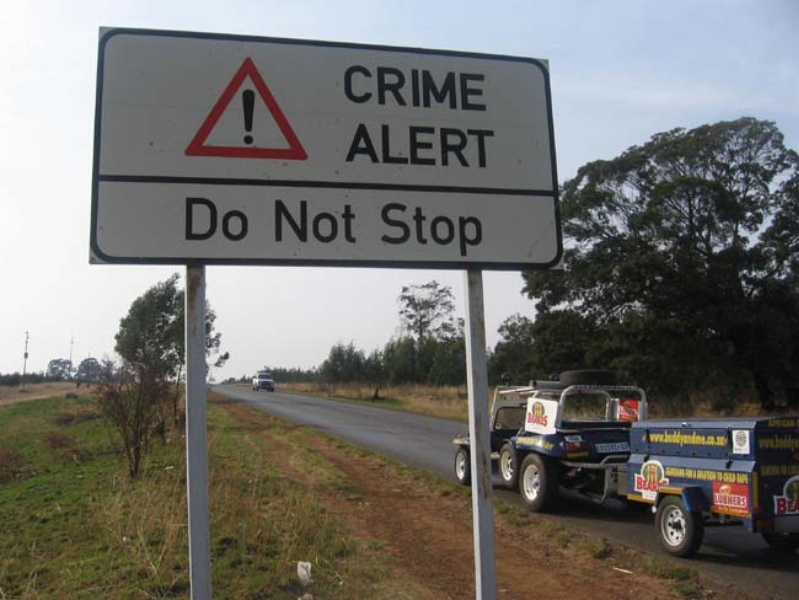text: (241, 84, 256, 148), (385, 200, 400, 259), (401, 200, 416, 259), (417, 200, 432, 259), (433, 200, 448, 259), (449, 200, 464, 259), (465, 200, 480, 259), (481, 122, 497, 169), (353, 63, 368, 112), (369, 63, 384, 112), (385, 63, 400, 112), (401, 63, 416, 112), (417, 63, 432, 112), (433, 63, 448, 112), (449, 63, 464, 112), (465, 63, 480, 112), (193, 196, 208, 243), (209, 196, 224, 243), (225, 196, 240, 243), (369, 122, 384, 169), (385, 122, 400, 169), (401, 122, 416, 169), (417, 122, 432, 169), (433, 122, 448, 169), (449, 122, 464, 169), (465, 122, 480, 169), (289, 198, 304, 244), (305, 198, 320, 244), (321, 198, 336, 244), (337, 198, 352, 244), (275, 198, 288, 244), (356, 122, 368, 169), (343, 63, 352, 112), (481, 63, 490, 112), (241, 196, 250, 243), (673, 463, 688, 487), (689, 463, 704, 487), (705, 463, 720, 487), (721, 463, 736, 487), (185, 196, 192, 243), (257, 84, 262, 148), (641, 428, 656, 449), (657, 428, 672, 449), (673, 428, 688, 449), (689, 428, 704, 449), (705, 428, 720, 449), (737, 463, 750, 487), (769, 432, 784, 452), (641, 476, 656, 495), (785, 495, 798, 516), (529, 409, 544, 427), (661, 463, 672, 487), (755, 432, 768, 452), (785, 432, 798, 452), (721, 491, 736, 507), (380, 200, 384, 259), (481, 200, 485, 259), (774, 495, 784, 516), (737, 491, 750, 507), (769, 417, 784, 430), (630, 476, 640, 495), (353, 198, 357, 244), (710, 491, 720, 507), (721, 428, 728, 449), (785, 417, 796, 430), (238, 84, 240, 148), (657, 476, 663, 495), (545, 409, 550, 427), (525, 409, 528, 427), (765, 417, 768, 430)
